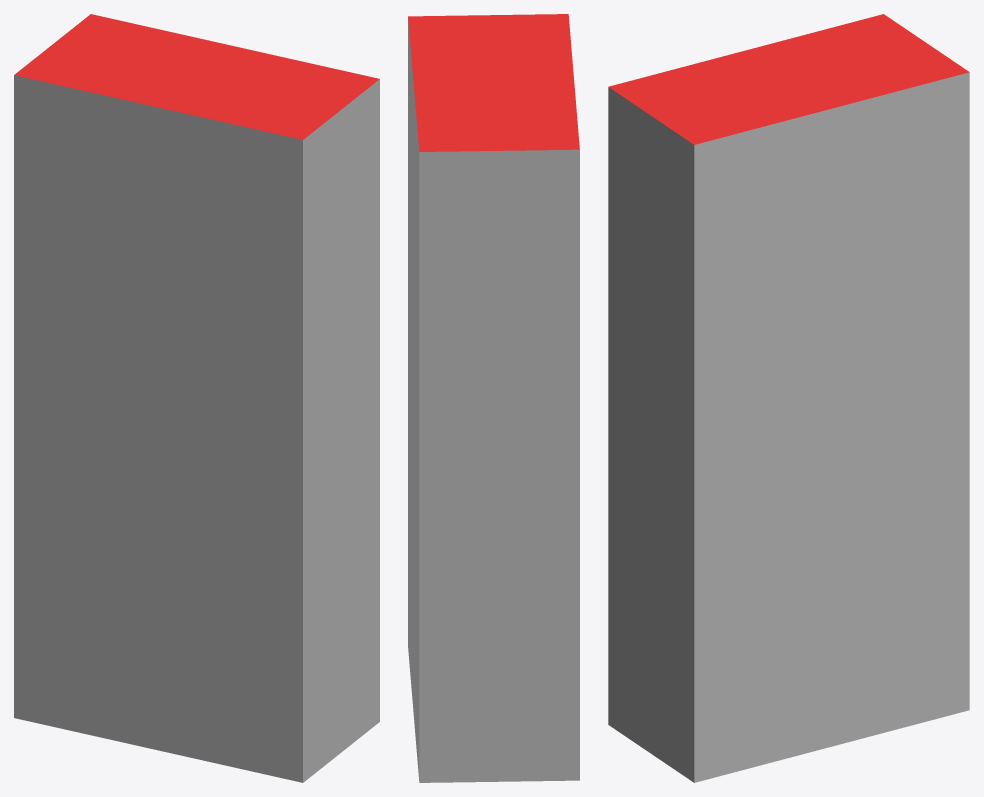
Rendered from ID_2479f23f-c4a2-4a66-ae6f-bf4adf080727.dae.
3 views of the same model, side by side, from view 1: azimuth 30°, elevation 25°; view 2: azimuth 150°, elevation 25°; view 3: azimuth 270°, elevation 25° (orthographic).
Size of the model in its own units: 5.72 by 6.68 by 13.
